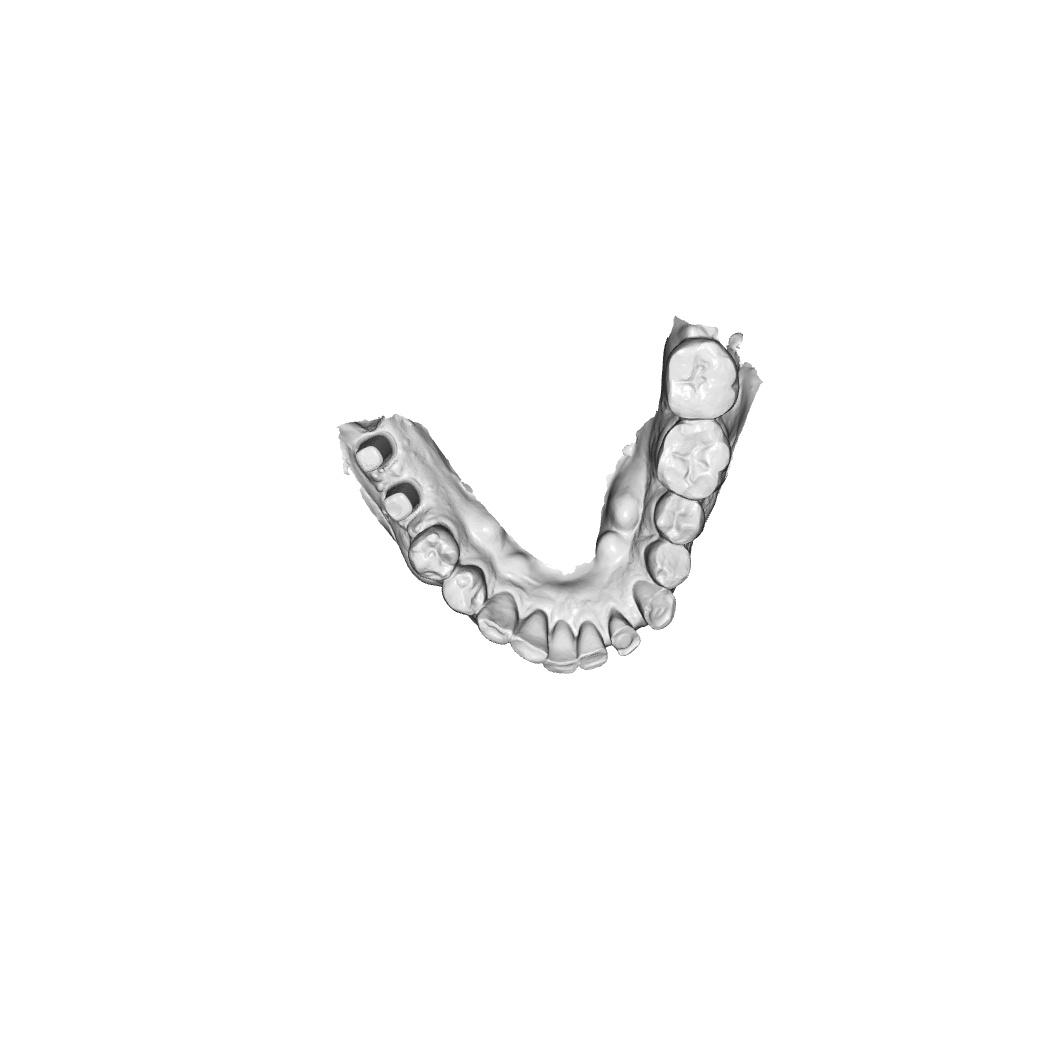abutment: (352, 431, 395, 477), (378, 482, 420, 521)
canine: (475, 591, 519, 646), (632, 579, 677, 632)
incisor: (509, 607, 549, 665), (542, 619, 578, 676), (607, 607, 642, 656), (577, 619, 609, 671)
molar: (663, 336, 741, 419), (654, 418, 732, 500)
premolar: (407, 523, 461, 582), (653, 490, 706, 545), (642, 539, 692, 591), (441, 564, 488, 616)
